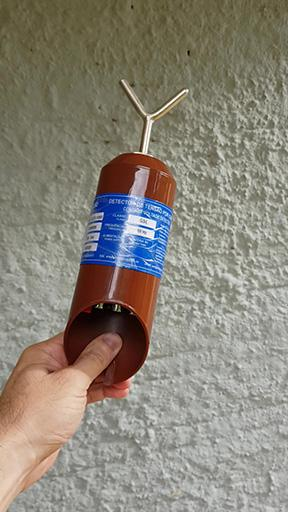Detector_Tensao_Contato: (62, 79, 191, 386)
